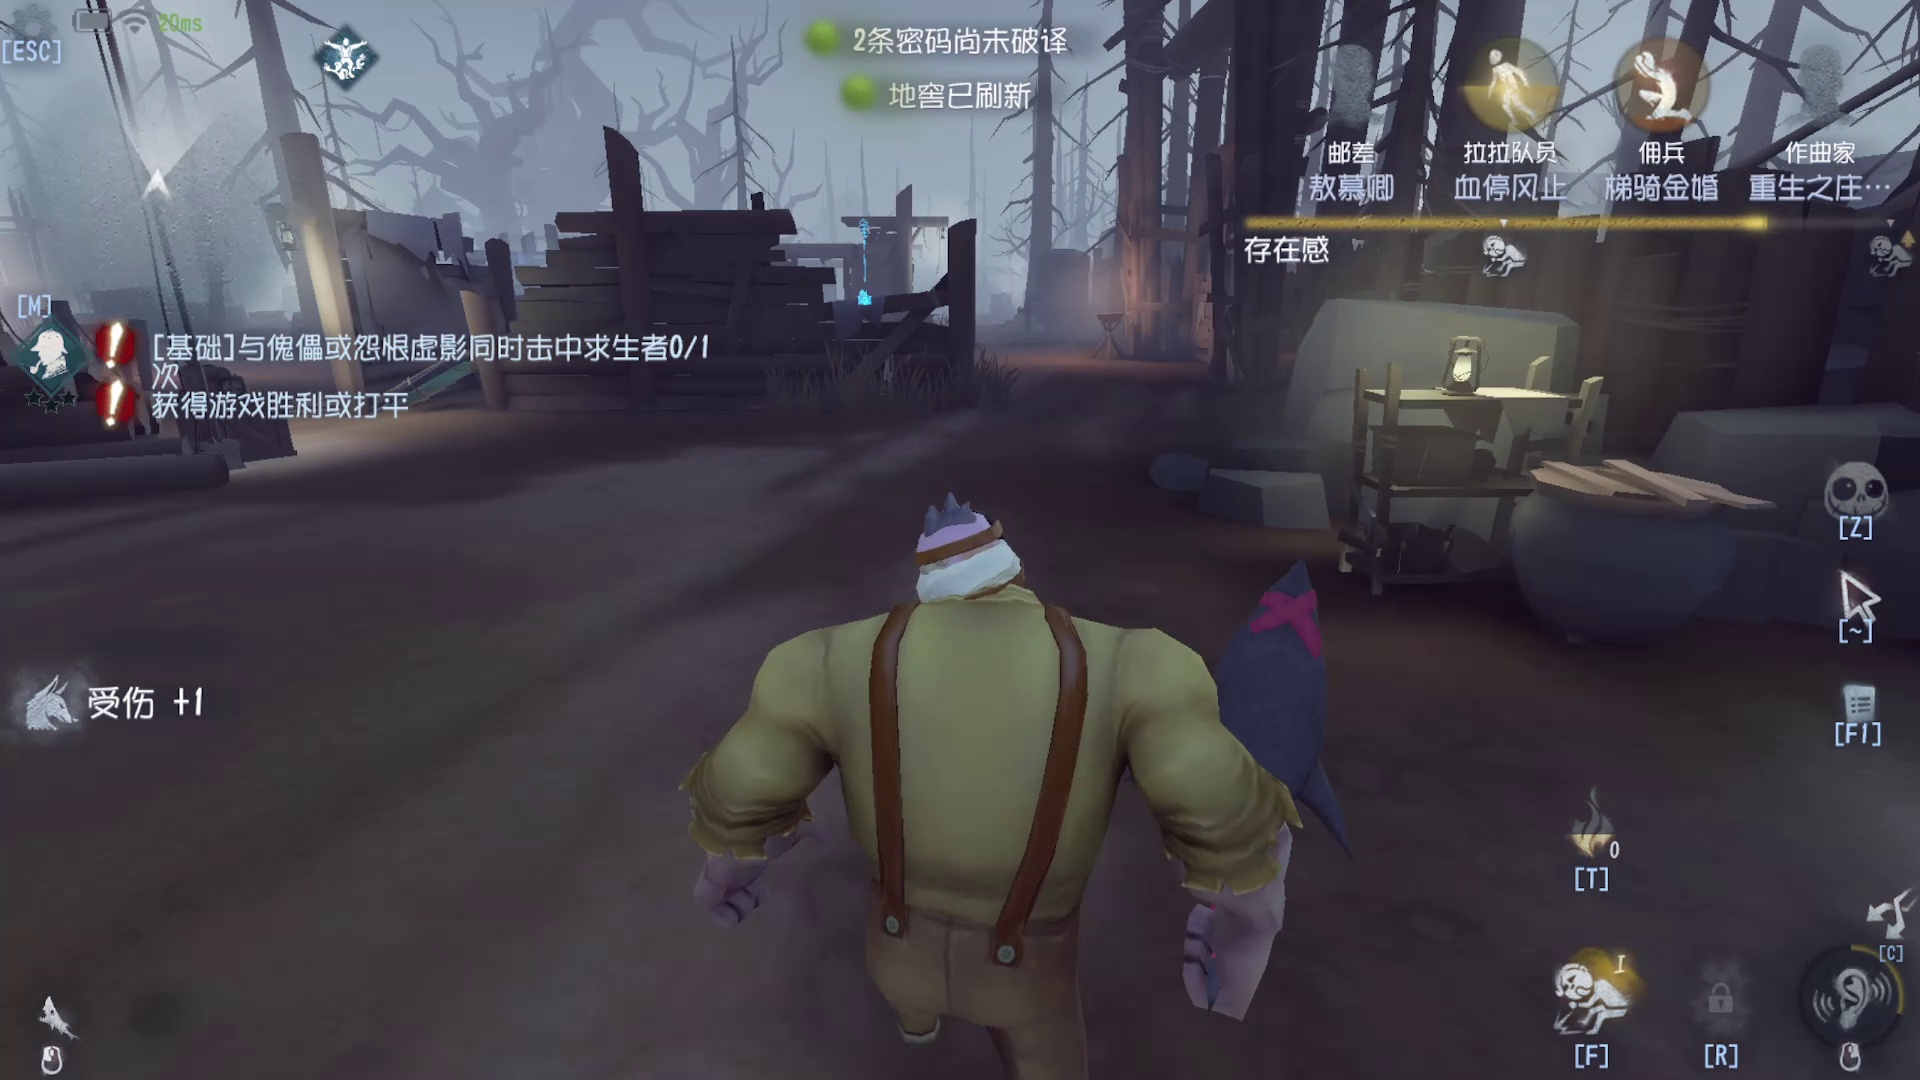密码机: (825, 194, 894, 328)
木板: (376, 314, 541, 431)
